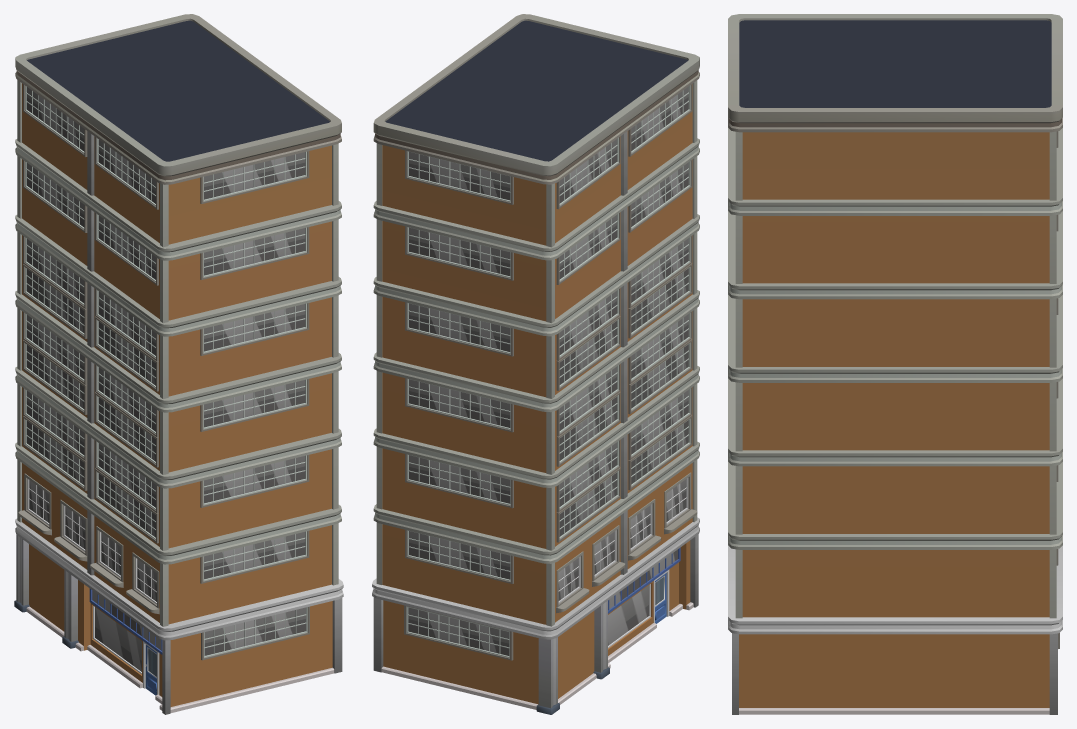
The model's file is Building_11_5_H.fbx.
The picture shows the model from 3 angles, left to right: view 1: azimuth 30°, elevation 25°; view 2: azimuth 150°, elevation 25°; view 3: azimuth 270°, elevation 25°; orthographic projection. The views are drawn at different scales.
Parts seen in each view (by area): view 1: Building_11_5_H; view 2: Building_11_5_H; view 3: Building_11_5_H.
Part boxes in pixels (x1,y1,x2,y2): Building_11_5_H: (14,14,343,714); Building_11_5_H: (372,14,699,714); Building_11_5_H: (728,14,1062,714).
Size of the model in its own units: 827 by 2314 by 1163.
